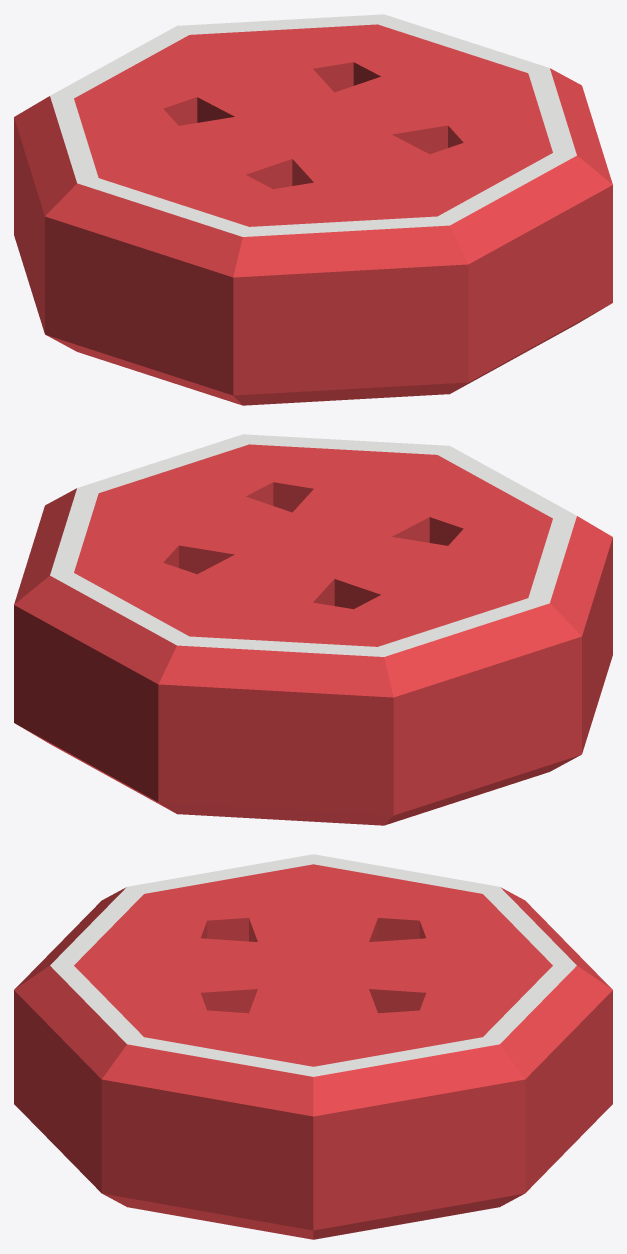
The model's file is button_missile.glb.
3 views of the same model, one above another, from view 1: azimuth 30°, elevation 25°; view 2: azimuth 150°, elevation 25°; view 3: azimuth 270°, elevation 25° (orthographic). The views are drawn at different scales.
Parts seen in each view (by area): view 1: Body_Red, Body_White; view 2: Body_Red, Body_White; view 3: Body_Red, Body_White.
Part boxes in pixels (<box>): Body_Red: <box>14,24,612,405</box>; Body_White: <box>50,14,576,236</box>; Body_Red: <box>14,444,612,825</box>; Body_White: <box>50,434,576,656</box>; Body_Red: <box>14,864,612,1239</box>; Body_White: <box>50,854,576,1076</box>.
Size of the model in its own units: 0.2 by 0.06 by 0.2.
